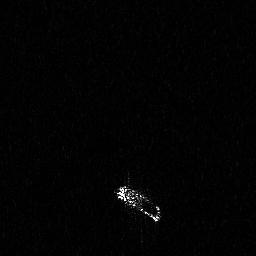ship: (109, 171, 162, 224)
